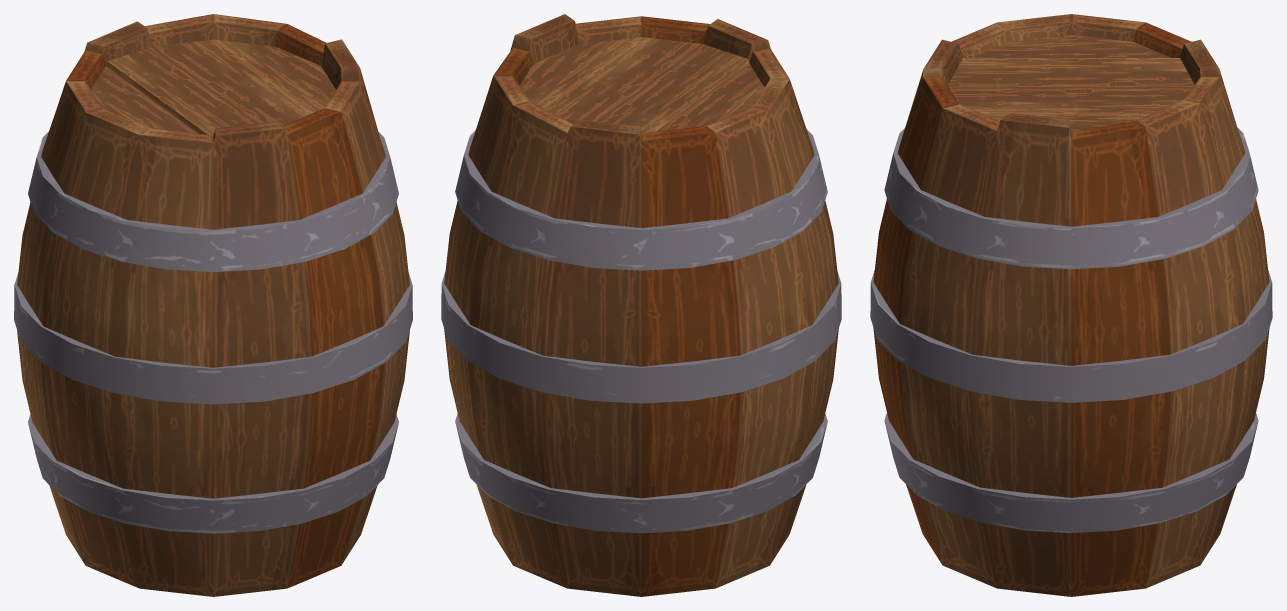
Rendered from Barrel.gltf.
3 renders of one model, left to right at view 1: azimuth 30°, elevation 25°; view 2: azimuth 150°, elevation 25°; view 3: azimuth 270°, elevation 25°, orthographic.
Parts seen in each view (by area): view 1: Barrel; view 2: Barrel; view 3: Barrel.
Part boxes in pixels (x1,y1,x2,y2): Barrel: (14,14,412,596); Barrel: (441,14,841,596); Barrel: (870,14,1272,596).
Bounding box in the file's own units: 0.698 × 0.898 × 0.698.
2 materials, 2 textured.
